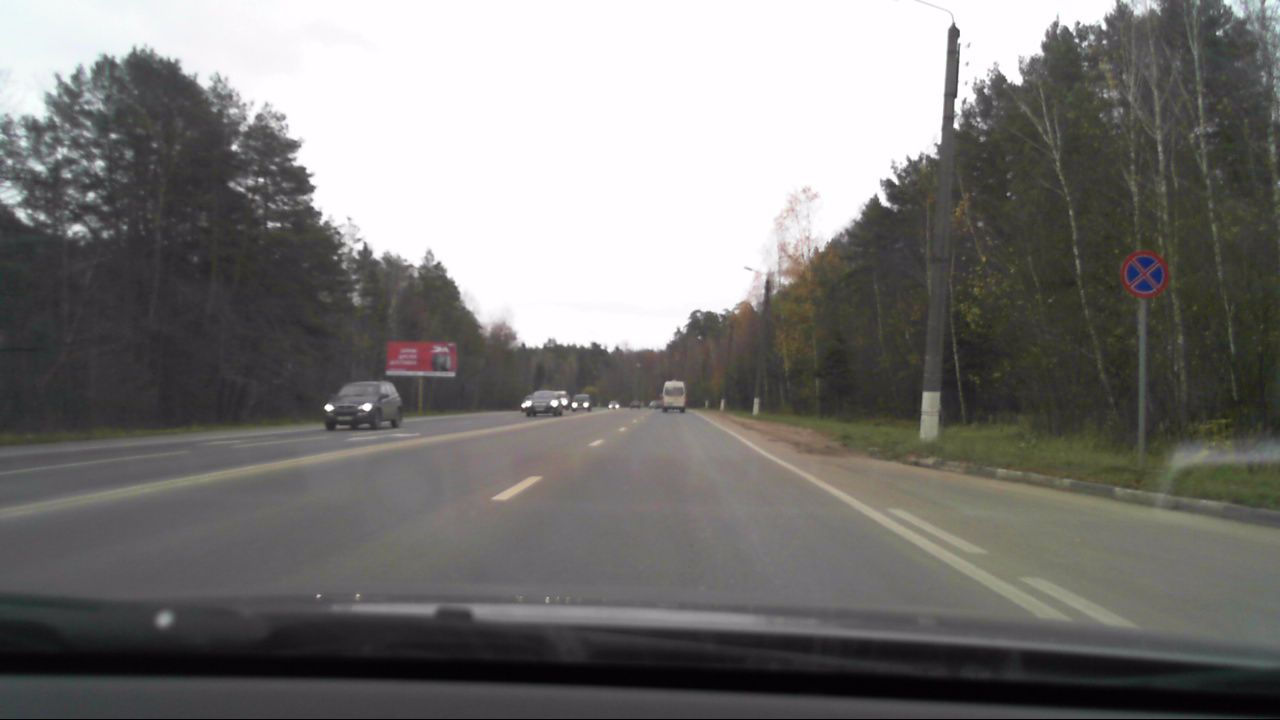No Parking: (1119, 251, 1165, 297)
